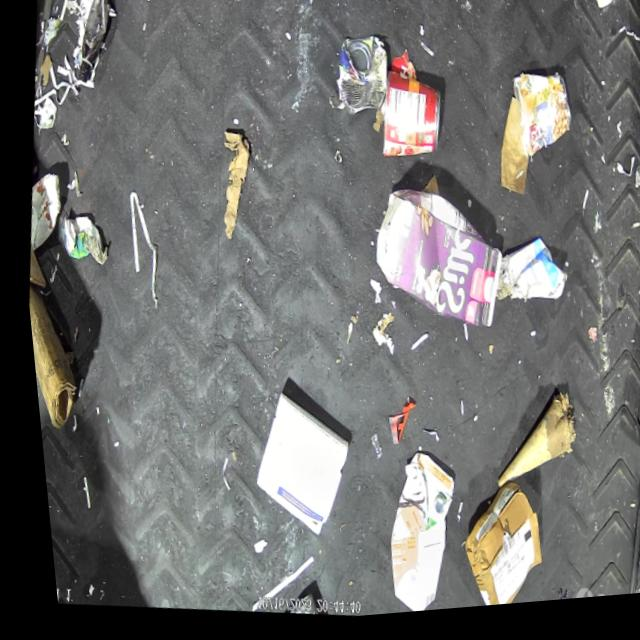can: (500, 76, 577, 173), (371, 73, 446, 172), (326, 35, 394, 127), (19, 166, 63, 255)
non_white_jug: (358, 183, 509, 344), (364, 455, 457, 619)
